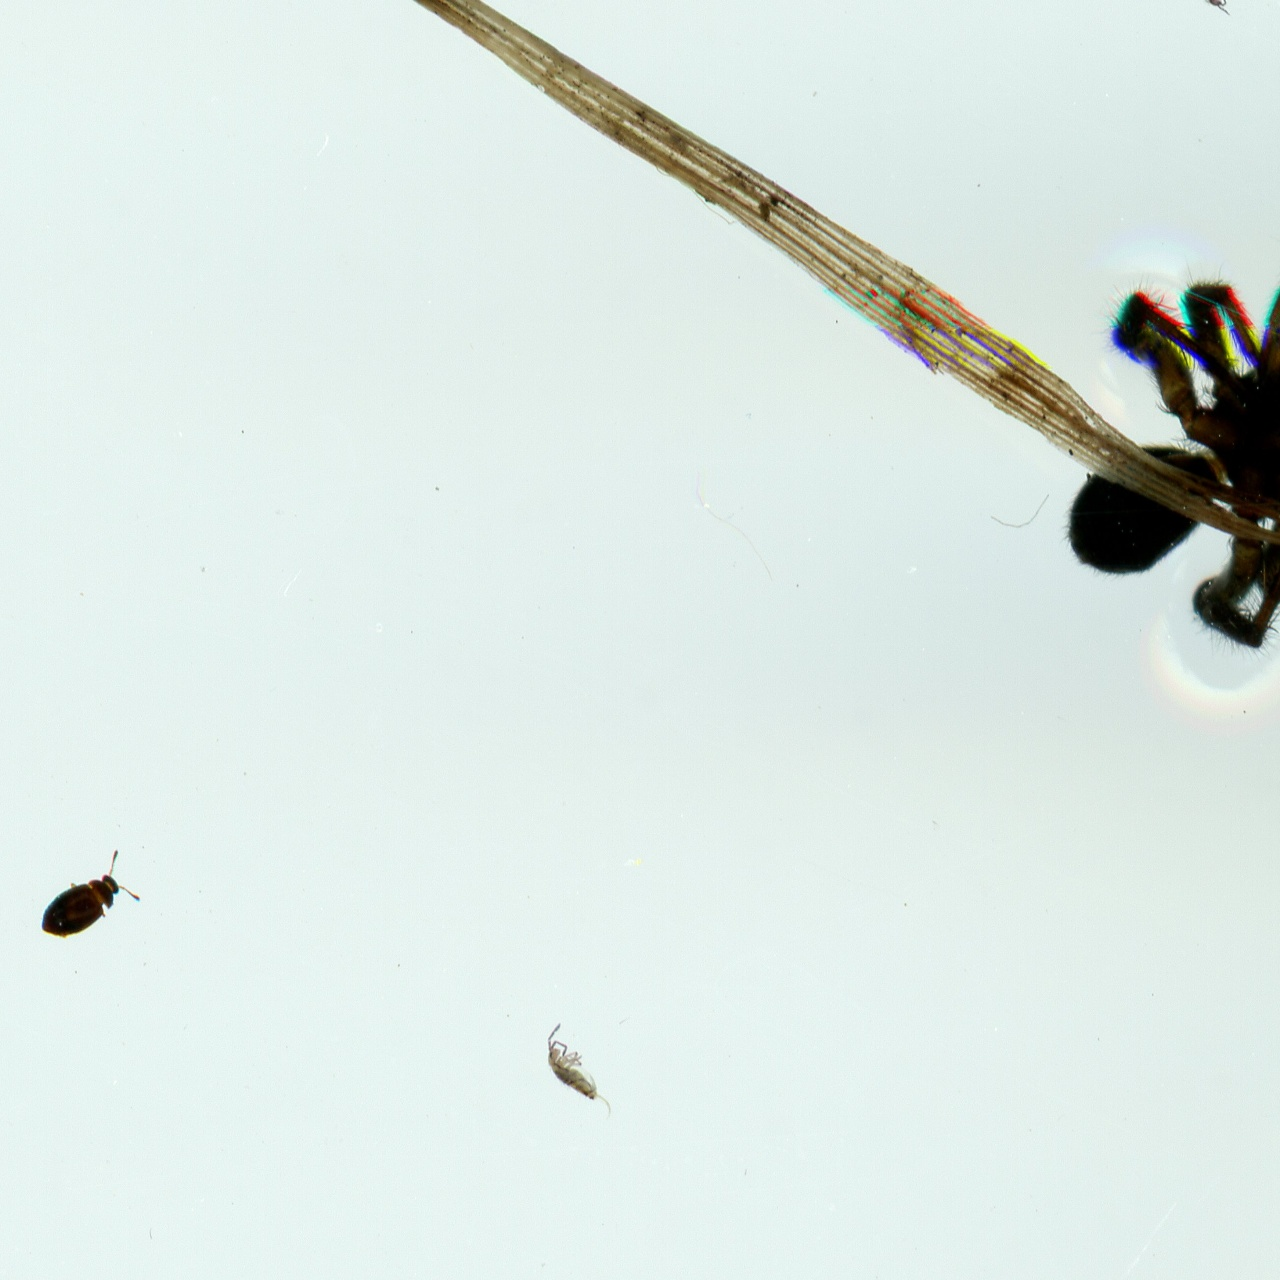arthropod: (1044, 196, 1280, 659), (18, 832, 161, 967), (538, 1019, 634, 1137), (1178, 0, 1246, 22)
